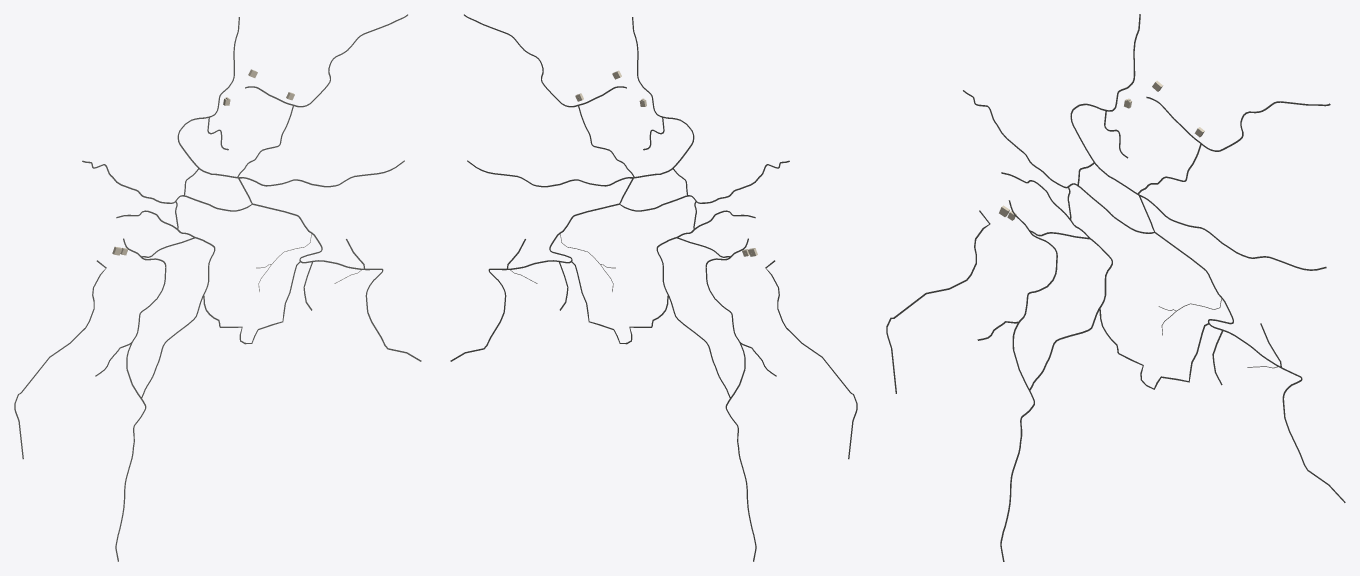
The model's file is historic-palestine-15_39_3569_3332.glb.
3 views of the same model, side by side, from view 1: azimuth 30°, elevation 25°; view 2: azimuth 150°, elevation 25°; view 3: azimuth 330°, elevation 25° (orthographic). The views are drawn at different scales.
Parts seen in each view (by area): view 1: no part large enough to name; view 2: no part large enough to name; view 3: Road .006, Road, Road .007.
Boxes of the visible parts, box(x1,y1,x2,y2) form: Road .006: box(1154, 232, 1302, 417); Road: box(1070, 14, 1162, 212); Road .007: box(963, 90, 1154, 233).
Bounding box in the file's own units: 999 × 1207 × 8.7.
